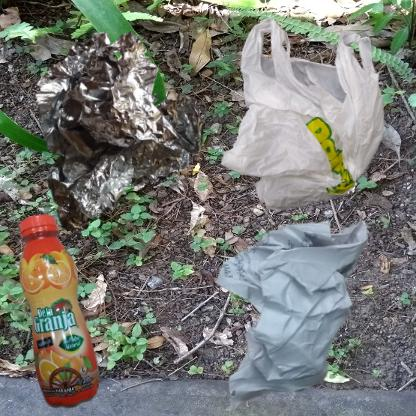aluminio: (10, 10, 237, 256)
bolsa: (213, 10, 410, 239)
botella: (10, 213, 111, 416)
papel: (213, 213, 374, 412)
